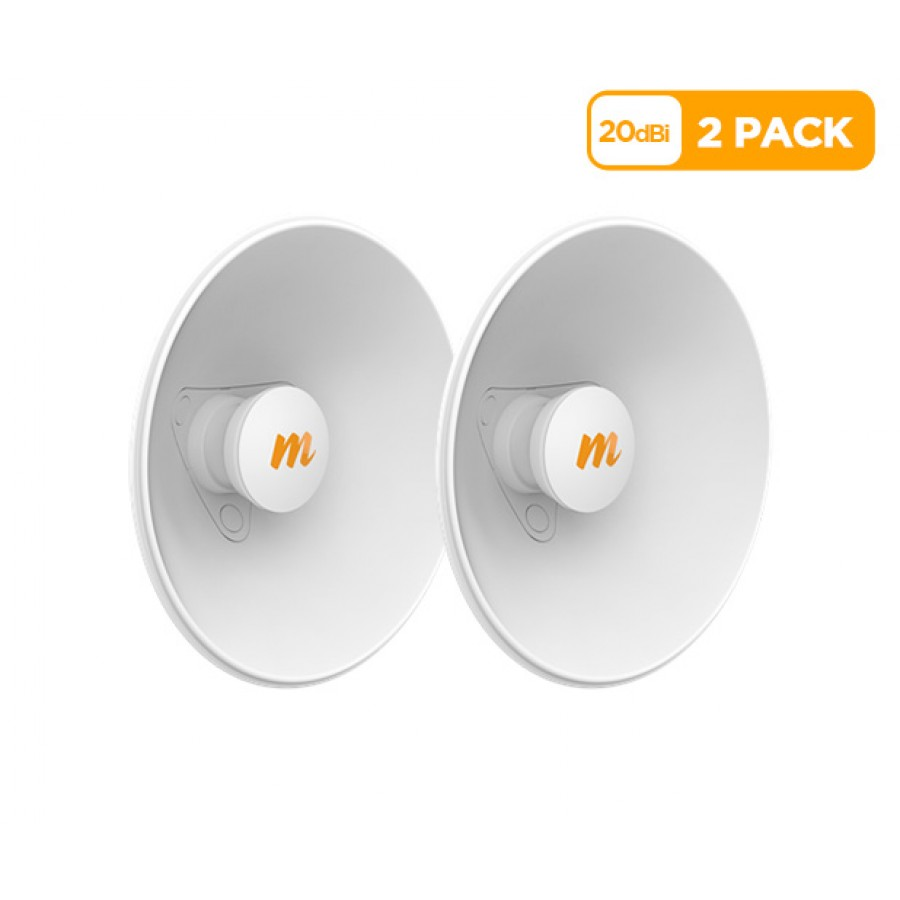ba: (468, 193, 779, 722)
